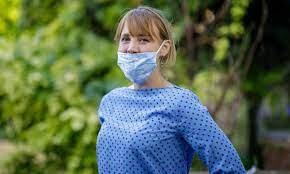mask_weared_incorrect: (118, 31, 160, 73)
